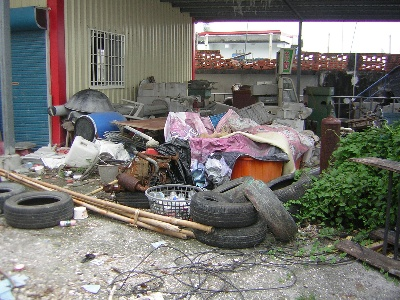bowl: (73, 206, 88, 220)
bucket: (64, 136, 98, 167), (97, 159, 125, 182)
plastic_bag: (163, 108, 314, 181)
tire: (244, 180, 298, 242), (3, 190, 74, 229), (190, 191, 259, 227), (194, 222, 267, 248), (75, 112, 127, 142), (266, 173, 312, 202)
